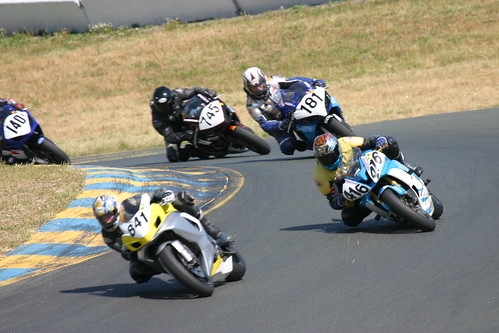helmet: (304, 131, 346, 169), (140, 81, 183, 117), (89, 193, 126, 229), (241, 66, 276, 99)
